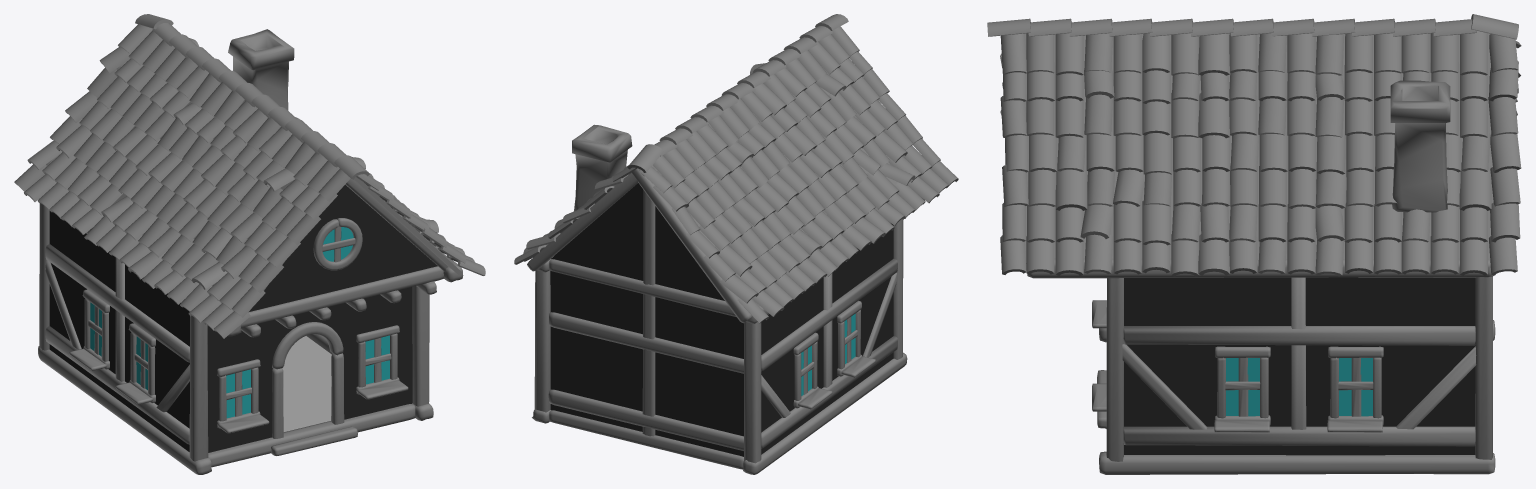
File: SM_house_03.fbx
3 views of the same model, side by side, from view 1: azimuth 30°, elevation 25°; view 2: azimuth 150°, elevation 25°; view 3: azimuth 270°, elevation 25° (orthographic). The views are drawn at different scales.
Visible parts, largest first — view 1: Object342509; view 2: Object342509; view 3: Object342509.
Boxes of the visible parts, box(x1,y1,x2,y2) form: Object342509: box(14, 14, 485, 474); Object342509: box(514, 14, 958, 474); Object342509: box(987, 14, 1521, 474).
Bounding box in the file's own units: 230 × 257 × 318.
